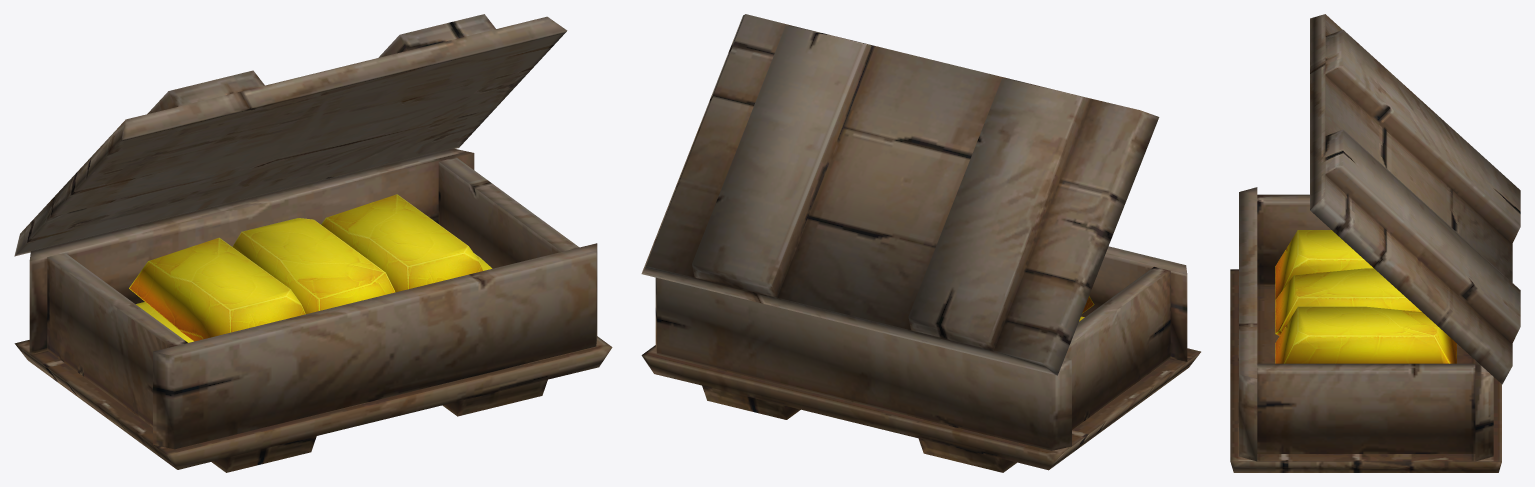
Rendered from gold2.obj.
3 renders of one model, left to right at view 1: azimuth 30°, elevation 25°; view 2: azimuth 150°, elevation 25°; view 3: azimuth 270°, elevation 25°, orthographic. The views are drawn at different scales.
Parts seen in each view (by area): view 1: Crate_02, Gold_16; view 2: Crate_02; view 3: Crate_02, Gold_16.
Part boxes in pixels (x1=…): Crate_02: x1=14, y1=14, x2=612, y2=472; Gold_16: x1=129, y1=194, x2=492, y2=342; Crate_02: x1=641, y1=14, x2=1200, y2=472; Crate_02: x1=1230, y1=14, x2=1520, y2=472; Gold_16: x1=1275, y1=230, x2=1456, y2=363.
Bounding box in the file's own units: 14.76 × 10.77 × 9.43.
